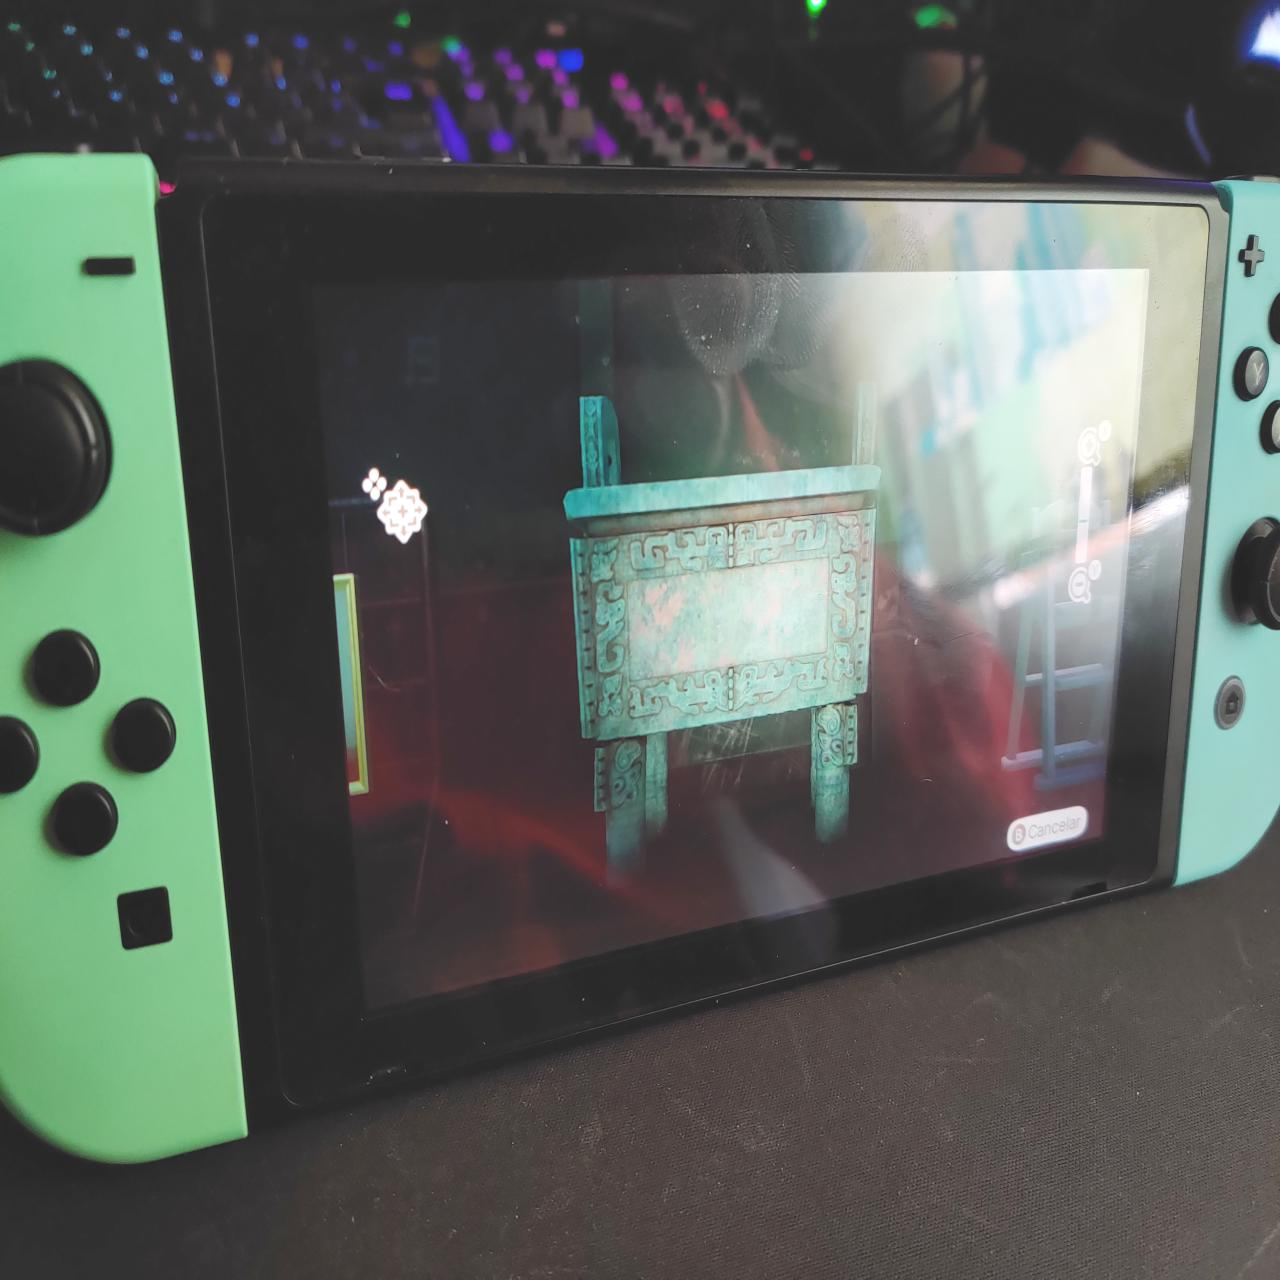HoumuwuDing: (561, 384, 888, 869)
